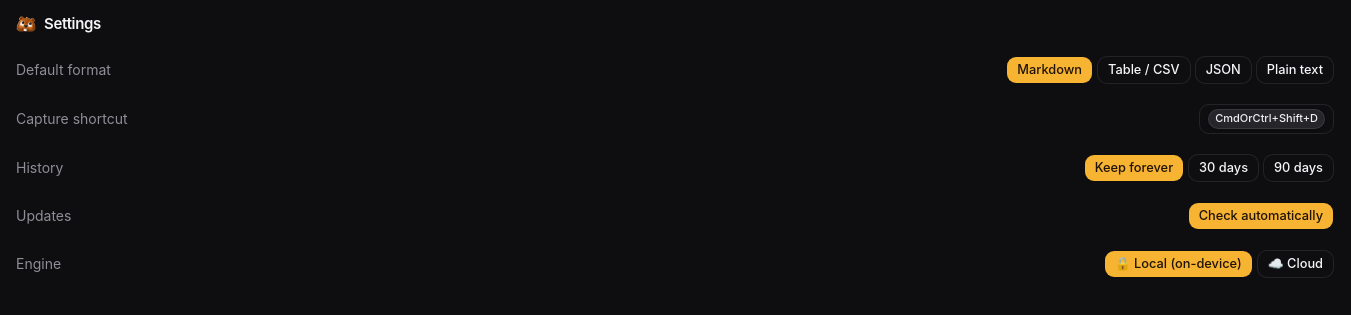
Test: SettingsPanel › shows an inline error and keeps the old shortcut when the update is rejected
This screenshot has width=1351, height=315.
Expected: the text "CmdOrCtrl+Shift+D" is shown, [1208,108,1325,128]
Click the button with test id "shortcut-field" at x=1267, y=118, box [1199,104,1334,134]
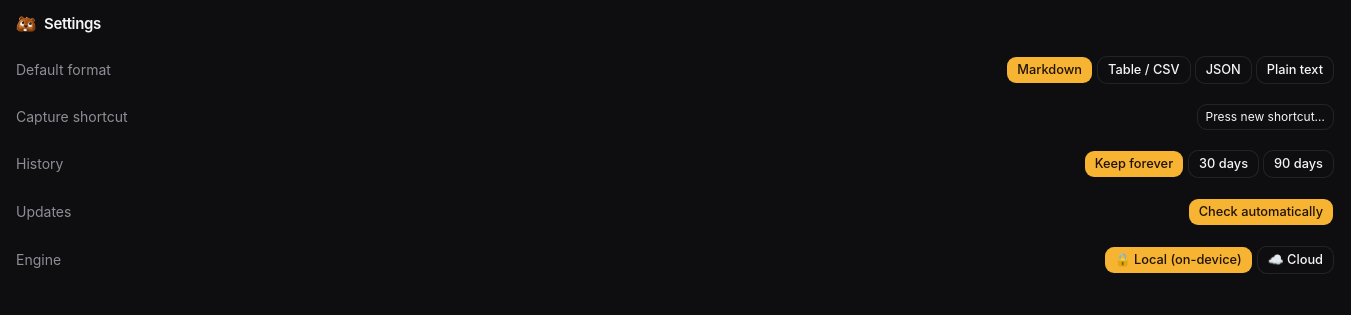
Press x
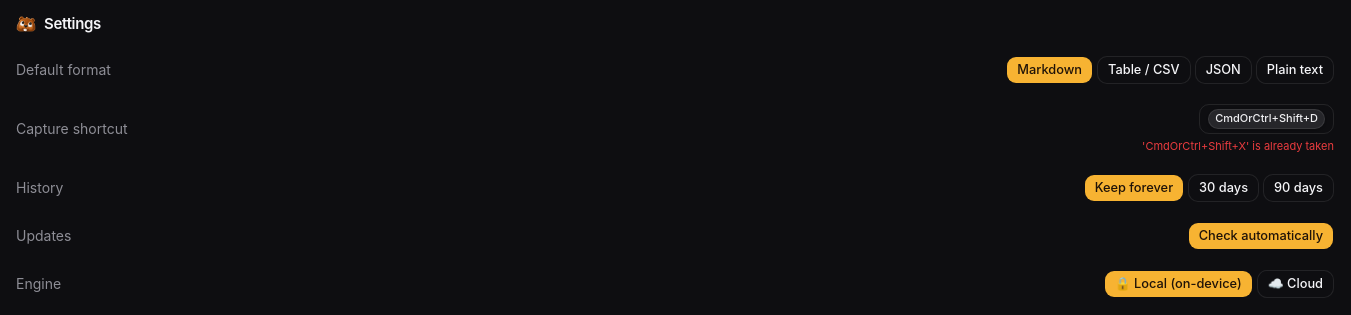
Result: the text "'CmdOrCtrl+Shift+X' is already taken" is shown at [1142,138,1334,154]
Result: the text "CmdOrCtrl+Shift+D" is shown at [1208,108,1325,128]
